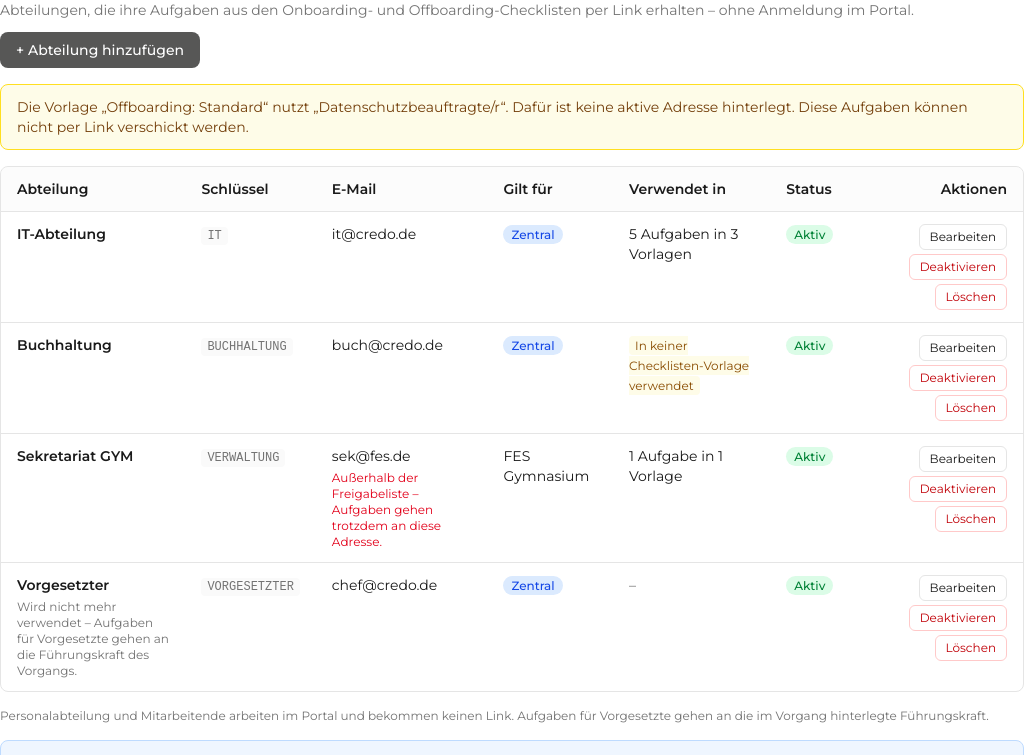
Test: Zeilenaktionen › Loeschen fragt mit Name und Einrichtung nach
Click the button "Löschen" below "1 Aufgabe in 1 Vorlage". click: (971, 519)
box: [934,506,1007,532]
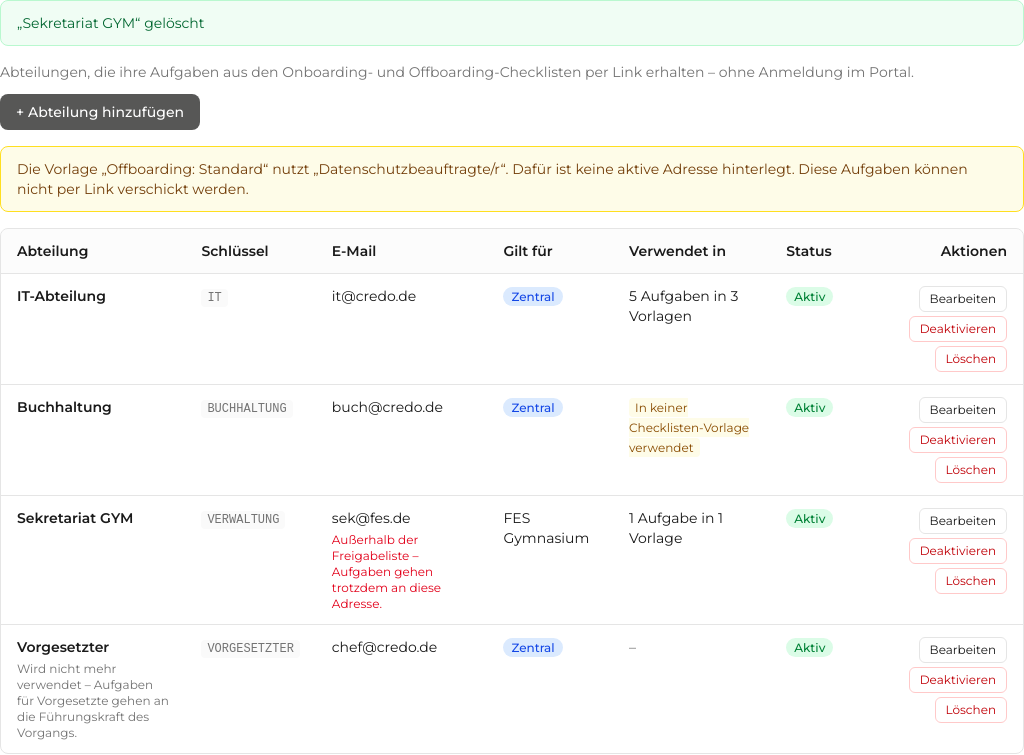
Now the text "„Sekretariat GYM“ gelöscht" is shown, box [0,0,1023,46]
